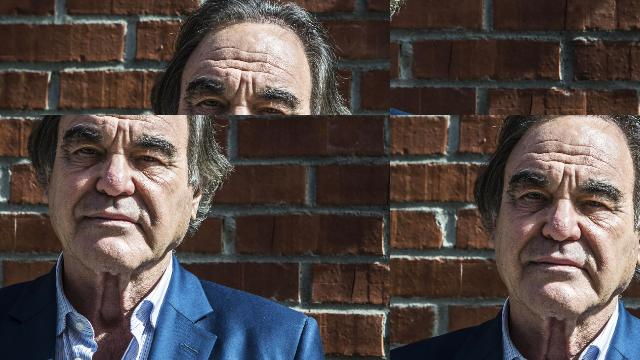crows_feet: (612, 200, 626, 222), (504, 192, 518, 214), (19, 48, 29, 66)
forehead: (572, 144, 612, 172), (532, 142, 566, 166), (15, 20, 28, 34), (43, 12, 55, 26), (68, 12, 78, 27), (29, 13, 41, 25), (58, 18, 68, 30)
frown_line: (556, 172, 578, 188)
gummy_smile: (578, 226, 598, 256), (522, 223, 540, 251), (34, 121, 44, 135), (59, 126, 66, 140)
sad_smile: (516, 255, 526, 280), (586, 264, 596, 286)
